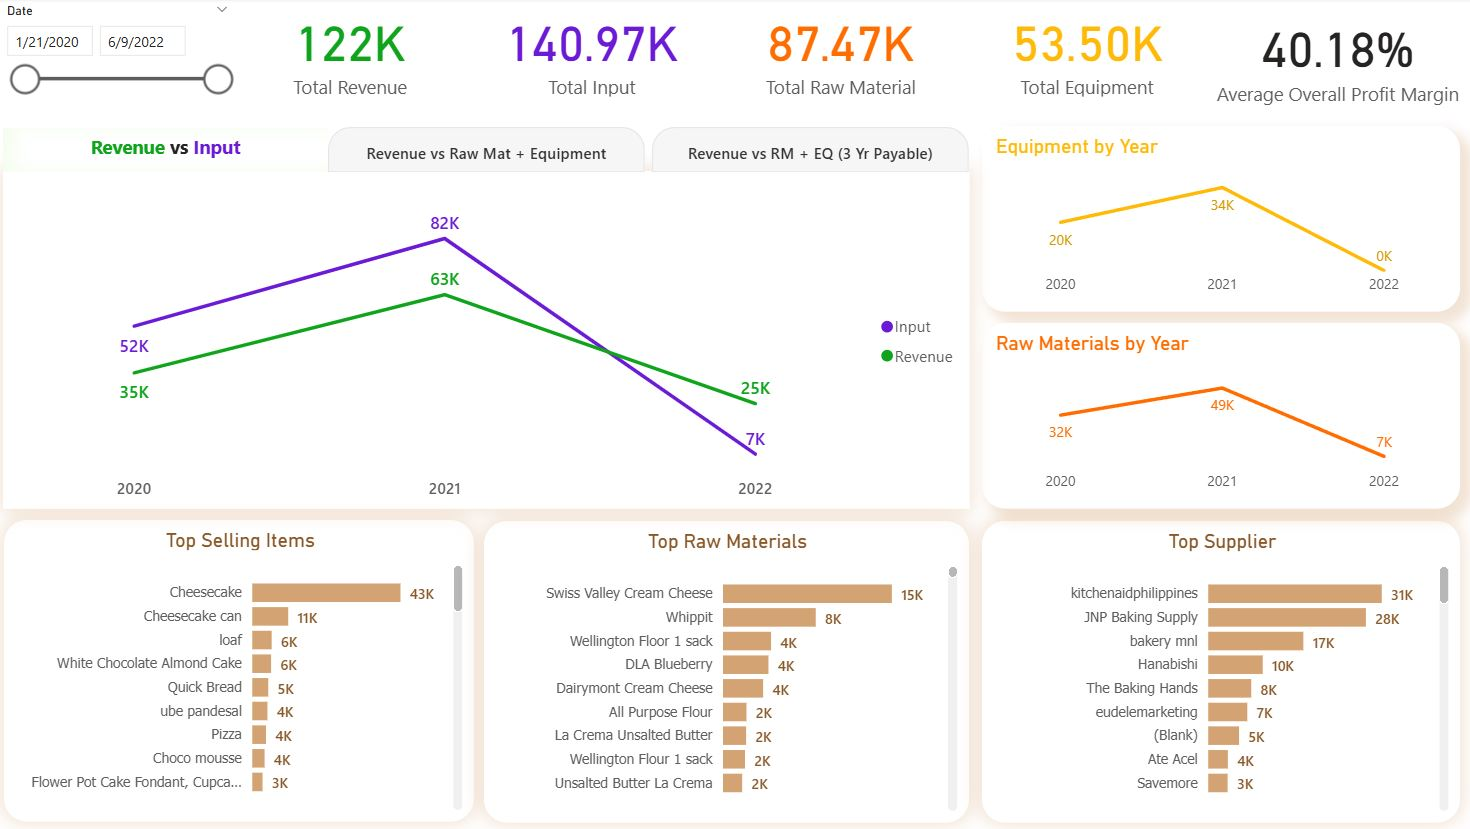

Layout of this report page (visuals, bound fields, positions):
{"tool":"powerbi","page":{"name":"Summary","canvas":[1280,720],"ordinal":0},"visuals":[{"type":"card","fields":{"Values":["Sum(Table3.Debit)"]},"box":[215.9,0,184.8,90.5],"z":0},{"type":"card","fields":{"Values":["Sum(Table3.Credit)"]},"box":[400.7,0,232.5,90.5],"z":6000},{"type":"card","fields":{"Values":["Sum(Table3.Credit)"]},"box":[633.2,0,196.5,90.5],"z":7000},{"type":"card","fields":{"Values":["Sum(Table3.Credit)"]},"box":[829.7,0,227.6,90.5],"z":8000},{"type":"clusteredBarChart","title":"Top Selling Items","fields":{"Category":["Table3.Item"],"Y":["Sum(Table3.Amount)"]},"box":[10,450,405.2,259.8],"z":9000},{"type":"lineChart","fields":{"Y":["Sum(Table3.Equipment)"],"Category":["Table3.Date.Variation.Date Hierarchy.Year","Table3.Date.Variation.Date Hierarchy.Month"]},"box":[853,110,412.3,159.6],"z":10000},{"type":"card","fields":{"Values":["Table3.Average Profit Margin"]},"box":[1040.7,0,239.3,101.2],"z":11000},{"type":"clusteredBarChart","title":"Top Raw Materials","fields":{"Category":["Table3.Item"],"Y":["Sum(Table3.Amount)"]},"box":[424,450.4,418,259.8],"z":19000},{"type":"clusteredBarChart","title":"Top Supplier","fields":{"Category":["Table3.Customer/Supplier"],"Y":["Sum(Table3.Amount)"]},"box":[853,450.4,412.3,259.8],"z":20000},{"type":"lineChart","fields":{"Y":["Sum(Table3.Raw Materials)"],"Category":["Table3.Date.Variation.Date Hierarchy.Year","Table3.Date.Variation.Date Hierarchy.Month"]},"box":[853,280.2,412.3,159.6],"z":21000},{"type":"slicer","fields":{"Values":["Table3.Date"]},"box":[0,0,215.9,109.9],"z":22000},{"type":"lineChart","fields":{"Y":["Sum(Table3.Cost)","Sum(Table3.Sale)"],"Category":["Table3.Date.Variation.Date Hierarchy.Year","Table3.Date.Variation.Date Hierarchy.Month"]},"box":[9.8,149,832.6,290.8],"z":25000},{"type":"shape","title":"RvRE3 Off","box":[569.3,110.8,273.1,39],"z":27000},{"type":"shape","title":"RvRE Off","box":[290,110.8,273.1,39],"z":29000},{"type":"textbox","title":"RvI Title","box":[9.8,111.7,280.2,38.1],"z":30000}]}

Visuals, with their boxes in screenshot pixels (x1, y1, x2, y2), scaled from the page's 1280x720 canvas onto the 1470x829 screenshot:
card - Sum(Table3.Debit): <box>248,0,460,104</box>
card - Sum(Table3.Credit): <box>460,0,727,104</box>
card - Sum(Table3.Credit): <box>727,0,953,104</box>
card - Sum(Table3.Credit): <box>953,0,1214,104</box>
"Top Selling Items" clusteredBarChart: <box>11,518,477,817</box>
lineChart - Sum(Table3.Equipment) x Table3.Date.Variation.Date Hierarchy.Year: <box>980,127,1453,310</box>
card - Table3.Average Profit Margin: <box>1195,0,1469,117</box>
"Top Raw Materials" clusteredBarChart: <box>487,519,967,818</box>
"Top Supplier" clusteredBarChart: <box>980,519,1453,818</box>
lineChart - Sum(Table3.Raw Materials) x Table3.Date.Variation.Date Hierarchy.Year: <box>980,323,1453,506</box>
slicer - Table3.Date: <box>0,0,248,127</box>
lineChart - Sum(Table3.Cost) x Sum(Table3.Sale): <box>11,172,967,506</box>
"RvRE3 Off" shape: <box>654,128,967,172</box>
"RvRE Off" shape: <box>333,128,647,172</box>
"RvI Title" textbox: <box>11,129,333,172</box>
